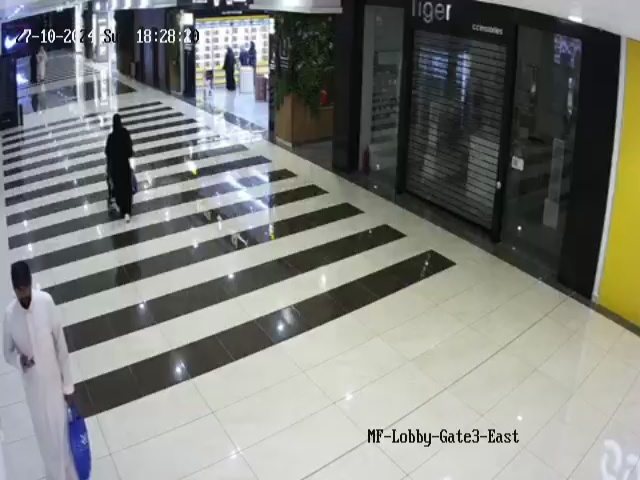female: (105, 113, 136, 223), (222, 46, 236, 91), (246, 37, 259, 70), (29, 50, 37, 85)
male: (2, 260, 82, 480), (39, 44, 49, 83)
